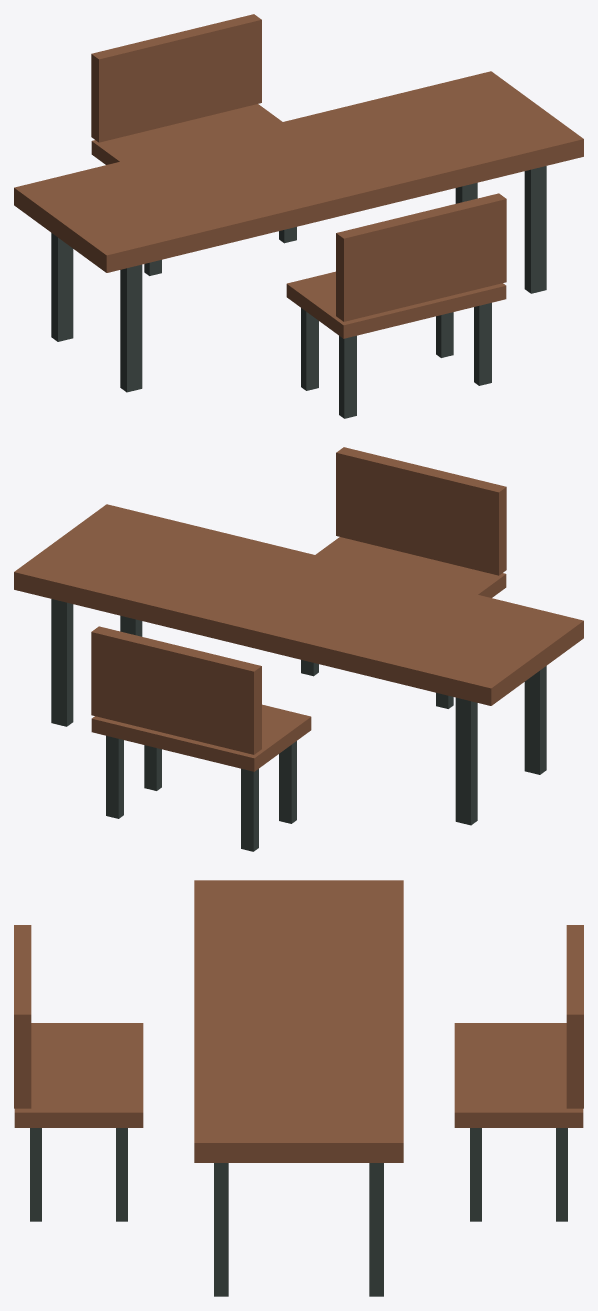
The model's file is outdoor-dining-dark-wood-visible-low.glb.
3 views of the same model, one above another, from view 1: azimuth 30°, elevation 25°; view 2: azimuth 150°, elevation 25°; view 3: azimuth 270°, elevation 25° (orthographic). The views are drawn at different scales.
Parts seen in each view (by area): view 1: outdoor-dining-dark-wood; view 2: outdoor-dining-dark-wood; view 3: outdoor-dining-dark-wood.
Part boxes in pixels (box(x1,y1,x2,y2)): outdoor-dining-dark-wood: box(14, 14, 583, 418); outdoor-dining-dark-wood: box(14, 447, 583, 851); outdoor-dining-dark-wood: box(14, 880, 583, 1296).
Size of the model in its own units: 2.4 by 0.9 by 2.2.
